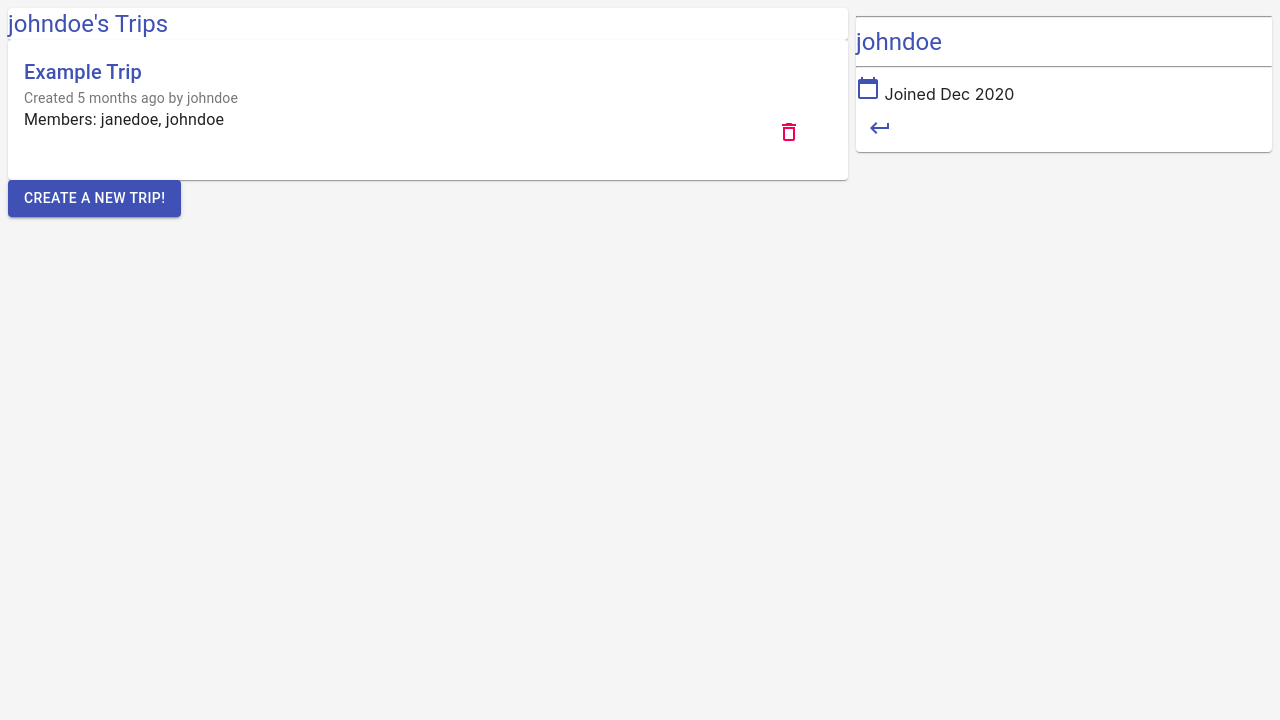
Scenario: Trips tests › Renders delete trip confirmation dialog when delete trip button clicked
This screenshot has width=1280, height=720.
Click the button named "delete trip".
click(789, 132)  # box [765,108,813,156]
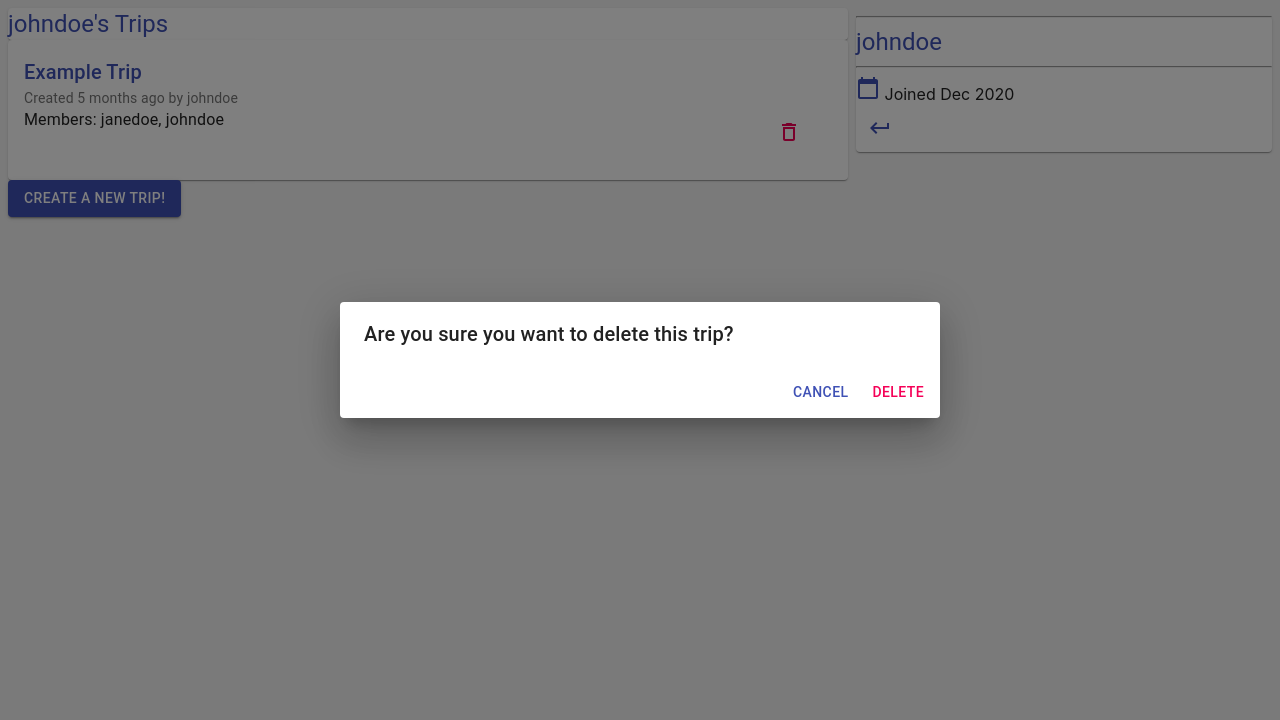
Result: the button "Delete" is shown at [864,374,932,410]
Result: the button "Cancel" is shown at [785,374,856,410]
Result: the heading "Are you sure you want to delete this trip?" is shown at [364,322,734,346]
